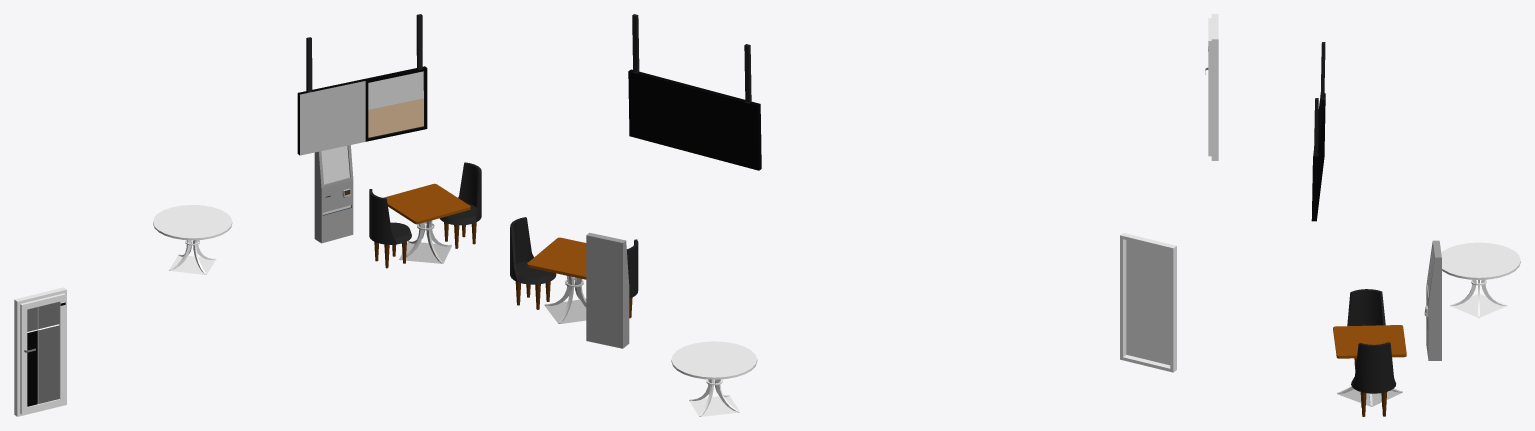
Rendered from Kiosk.fbx.
3 views of the same model, side by side, from view 1: azimuth 30°, elevation 25°; view 2: azimuth 150°, elevation 25°; view 3: azimuth 270°, elevation 25° (orthographic). The views are drawn at different scales.
Visible parts, largest first — view 1: Group42, Group24, Group1, Group14, Group25, Group6, Group30, Group36, Group37, Group5, Group31; view 2: Group42, Group23, Group1, Group14, Group24, Group6, Group36, Group37, Group5; view 3: Group14, Group6, Group36, Group1, Group24, Group30, Group42, Group5.
Boxes of the visible parts, left/top/right/bottom form: Group42: left=297, top=66, right=427, bottom=155; Group24: left=14, top=287, right=66, bottom=416; Group1: left=314, top=145, right=353, bottom=243; Group14: left=153, top=205, right=232, bottom=274; Group25: left=38, top=301, right=59, bottom=403; Group6: left=383, top=183, right=470, bottom=224; Group30: left=369, top=189, right=396, bottom=244; Group36: left=458, top=162, right=481, bottom=221; Group37: left=439, top=204, right=476, bottom=248; Group5: left=399, top=222, right=451, bottom=263; Group31: left=374, top=222, right=411, bottom=268; Group42: left=628, top=69, right=761, bottom=170; Group23: left=1123, top=239, right=1170, bottom=368; Group1: left=586, top=232, right=629, bottom=348; Group14: left=671, top=341, right=757, bottom=416; Group24: left=1120, top=233, right=1176, bottom=372; Group6: left=527, top=237, right=586, bottom=279; Group36: left=510, top=217, right=533, bottom=281; Group37: left=515, top=261, right=556, bottom=309; Group5: left=544, top=278, right=586, bottom=323; Group14: left=1441, top=242, right=1520, bottom=317; Group6: left=1333, top=325, right=1406, bottom=358; Group36: left=1352, top=342, right=1395, bottom=393; Group1: left=1424, top=240, right=1441, bottom=360; Group24: left=1208, top=14, right=1218, bottom=160; Group30: left=1347, top=289, right=1383, bottom=326; Group42: left=1311, top=93, right=1325, bottom=221; Group5: left=1338, top=387, right=1401, bottom=406.
Size of the model in its own units: 9777 by 4690 by 4709.
